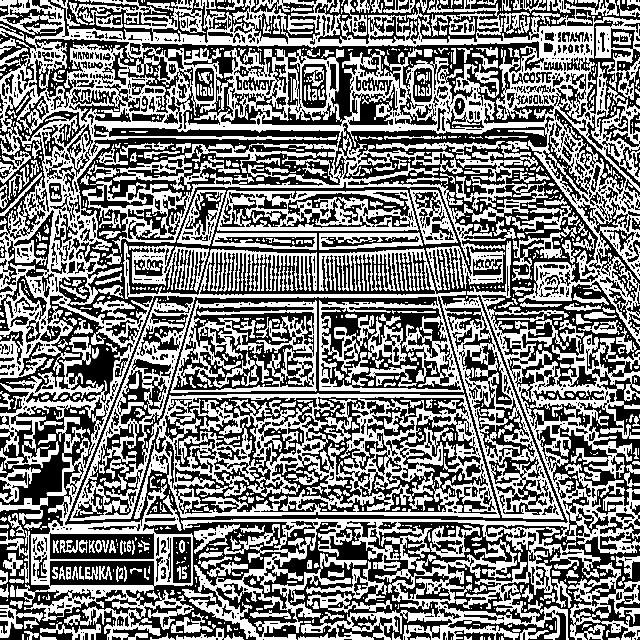left side: (66, 188, 227, 522), (408, 188, 566, 520)
player: (132, 412, 188, 552), (330, 120, 358, 191)
